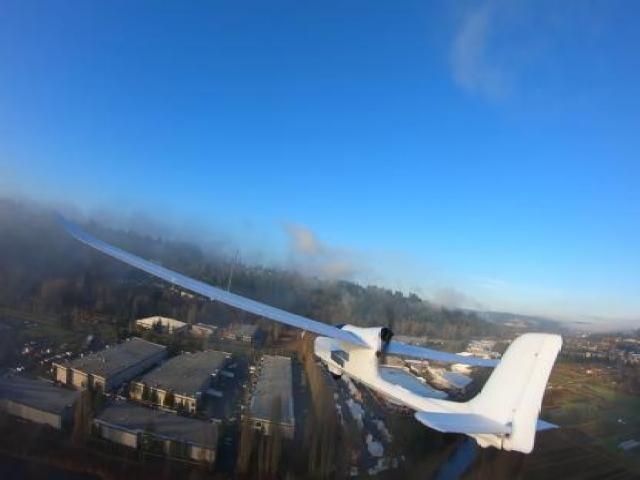uav: (46, 198, 569, 461)
